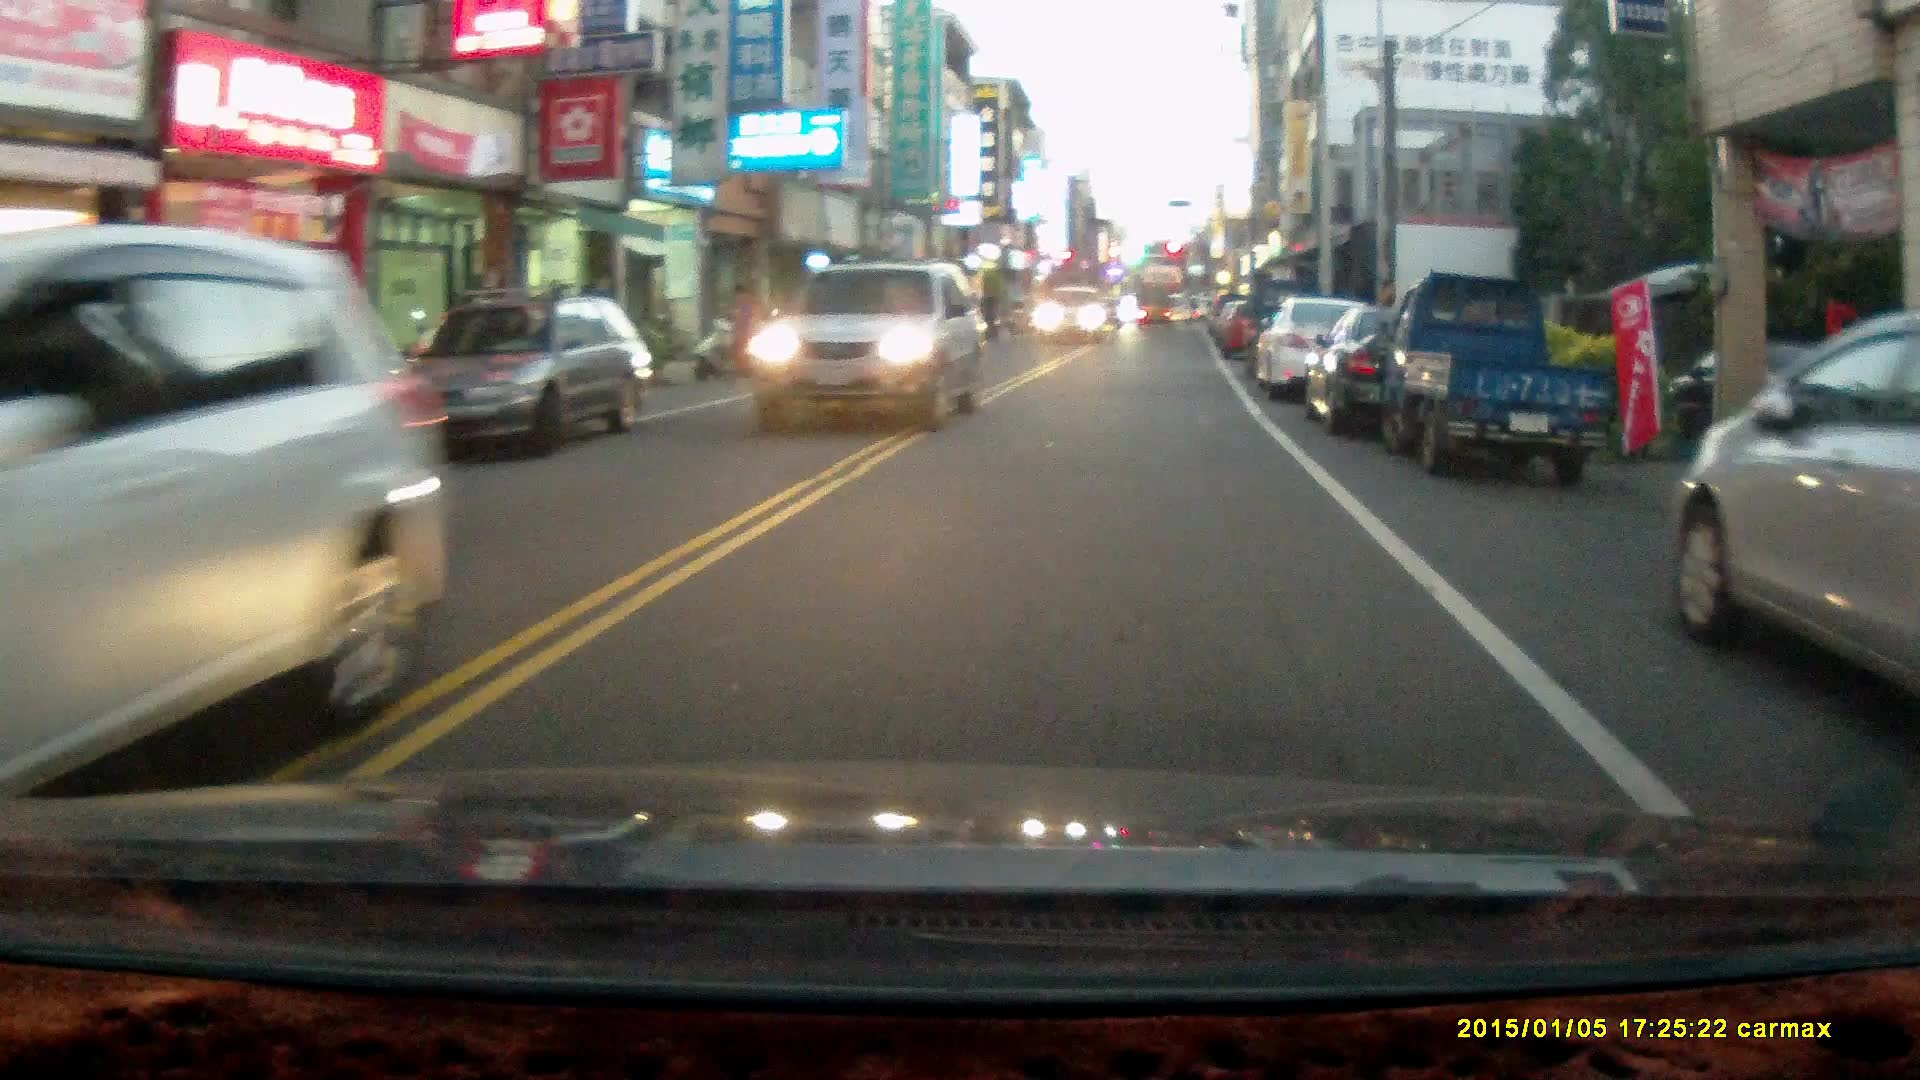pedestrian: (1815, 288, 1868, 460), (729, 279, 755, 370)
vehicle: (1, 223, 452, 793), (1672, 313, 1920, 712), (1374, 269, 1626, 490), (370, 293, 654, 465), (752, 262, 991, 433), (1309, 301, 1515, 437), (1252, 296, 1407, 405), (1032, 288, 1117, 347)
